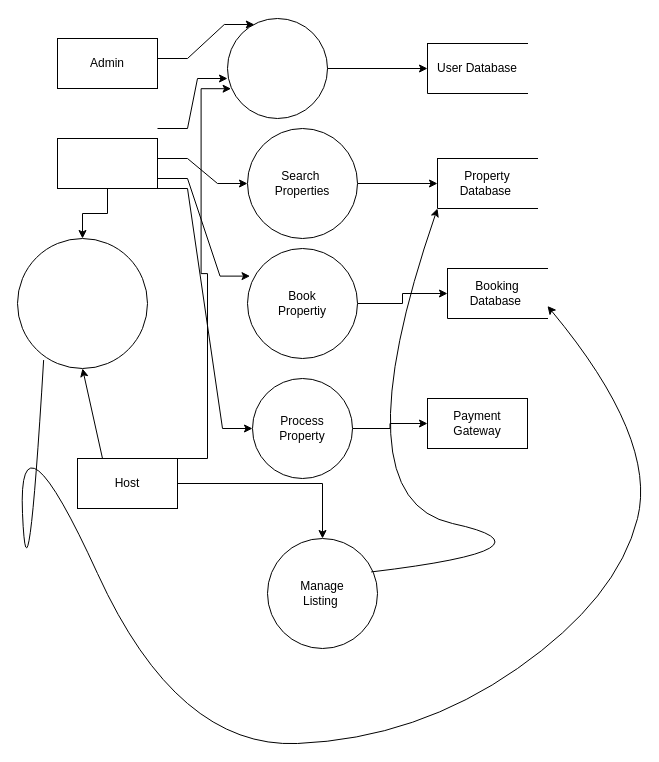
Image size: 659x762. Some labels were removed from this diagram. The box of each missing label's shape, as (x1, y1, x2, y2) in pixels:
Guest: (56, 138, 158, 188)
User Registration and Login: (226, 18, 328, 118)
View/ Cancel Bookings: (16, 238, 148, 368)
